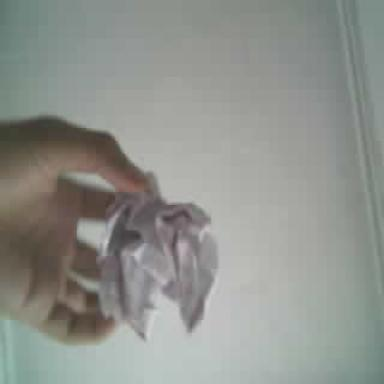paper: (97, 174, 217, 338)
